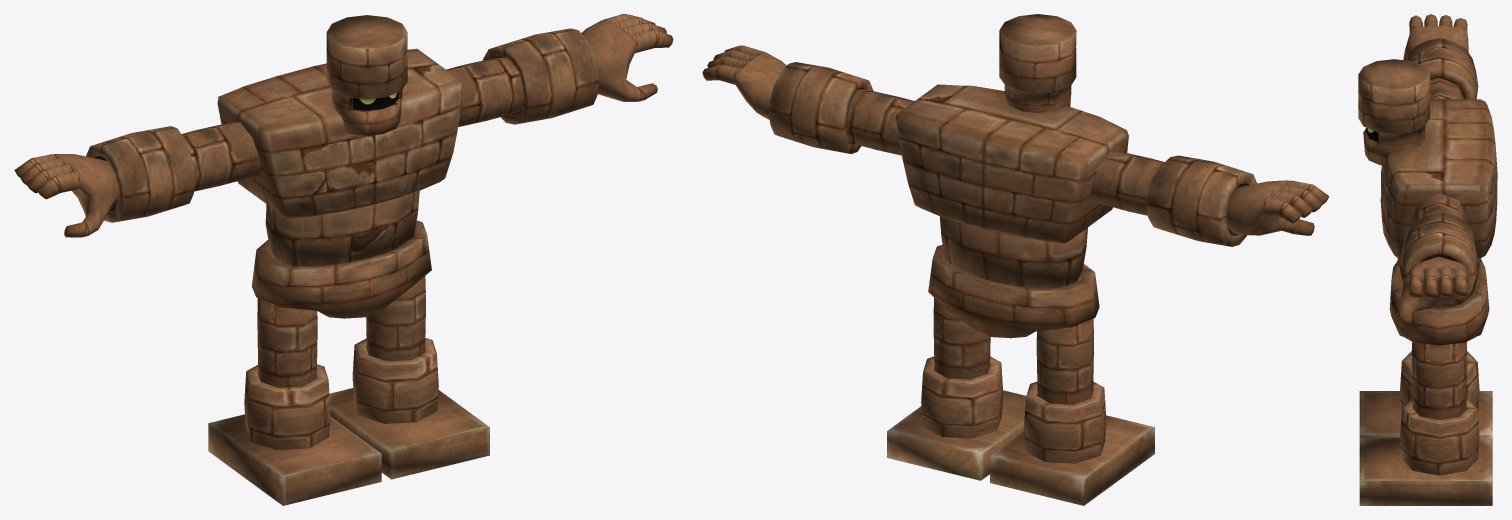
Rendered from Golem.obj.
3 views of the same model, side by side, from view 1: azimuth 30°, elevation 25°; view 2: azimuth 150°, elevation 25°; view 3: azimuth 270°, elevation 25° (orthographic). The views are drawn at different scales.
Visible parts, largest first — view 1: surface_001; view 2: surface_001; view 3: surface_001.
Part boxes in pixels (x1=…): surface_001: x1=14, y1=14, x2=673, y2=505; surface_001: x1=702, y1=14, x2=1329, y2=505; surface_001: x1=1358, y1=14, x2=1497, y2=505.
Size of the model in its own units: 717 by 468 by 152.
1 material, 1 textured.
